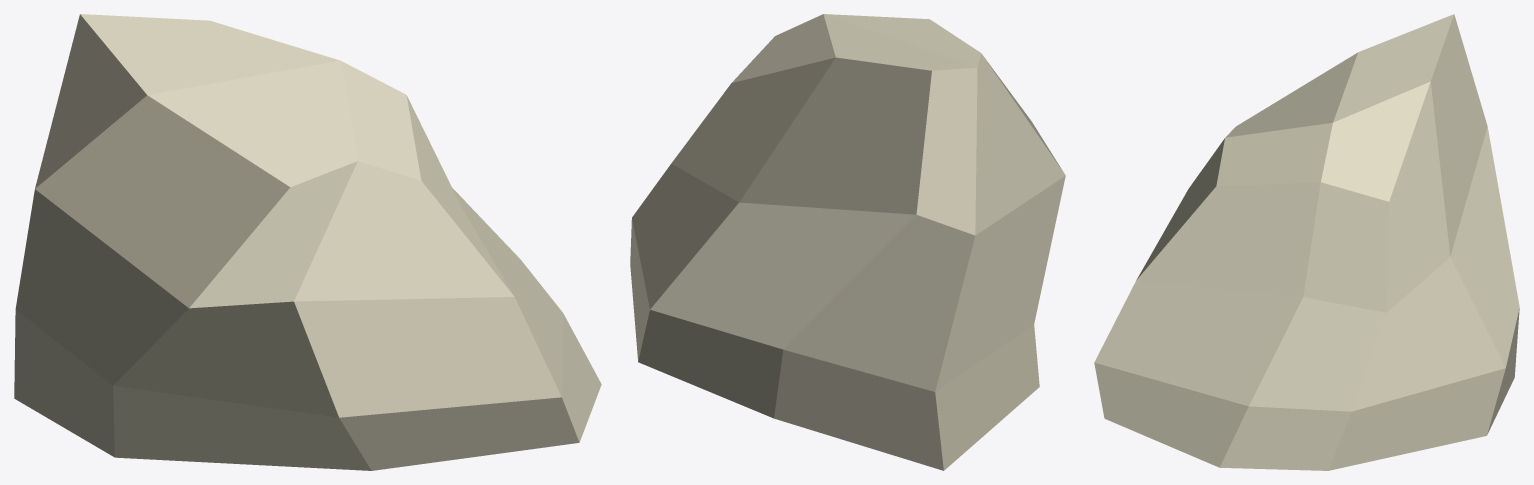
The model's file is BigRock2Color2.fbx.
3 views of the same model, side by side, from view 1: azimuth 30°, elevation 25°; view 2: azimuth 150°, elevation 25°; view 3: azimuth 270°, elevation 25° (orthographic). The views are drawn at different scales.
Parts seen in each view (by area): view 1: BigRock2; view 2: BigRock2; view 3: BigRock2.
Part boxes in pixels (x1=…): BigRock2: x1=14, y1=14, x2=601, y2=470; BigRock2: x1=630, y1=14, x2=1065, y2=470; BigRock2: x1=1094, y1=14, x2=1519, y2=470.
Size of the model in its own units: 1400 by 1197 by 1407.
